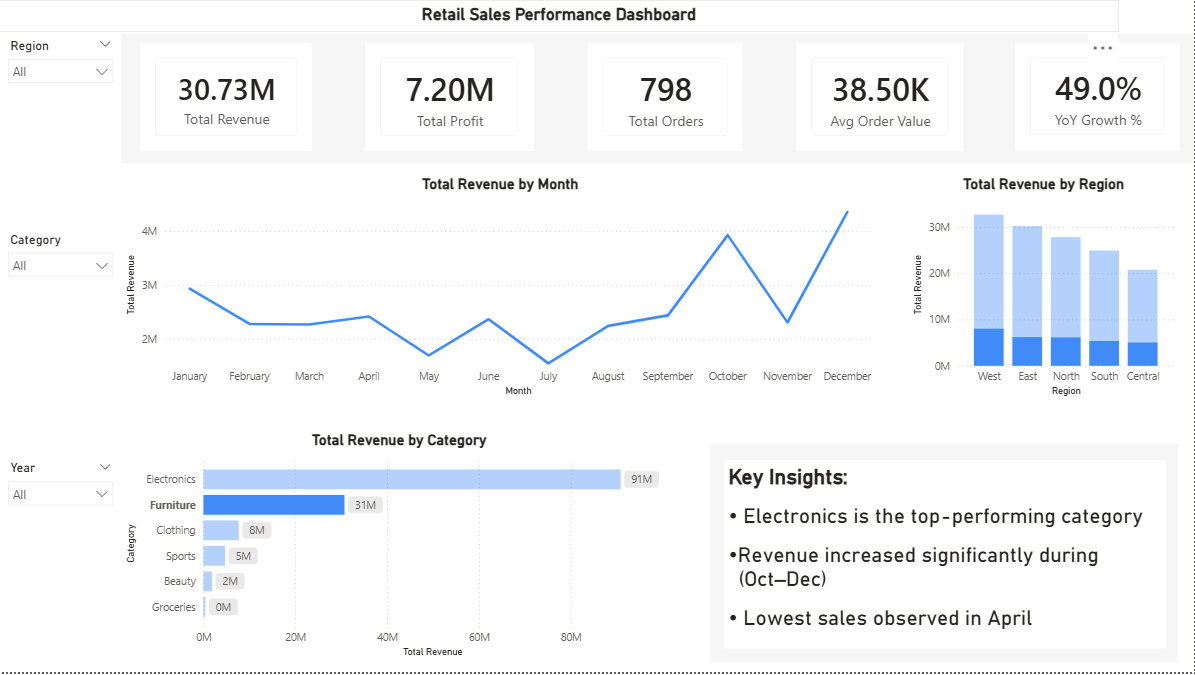

The page's visual inventory and layout, read from the dashboard file:
{"tool":"powerbi","page":{"name":"Page 1","canvas":[1366,768],"ordinal":0},"visuals":[{"type":"shape","box":[813.3,506.7,535,250],"z":0},{"type":"shape","box":[128,38,1238,148],"z":1000},{"type":"cardVisual","fields":{"Data":["Sales_Data.Total Revenue"]},"box":[162,48,196,124],"z":2000},{"type":"cardVisual","fields":{"Data":["Sales_Data.Total Profit"]},"box":[418.9,48.6,192.9,124.3],"z":3000},{"type":"cardVisual","fields":{"Data":["Sales_Data.Total Orders"]},"box":[672.7,48.6,177.1,124.3],"z":4000},{"type":"cardVisual","fields":{"Data":["Sales_Data.Avg Order Value"]},"box":[910.7,48,190,124],"z":5000},{"type":"slicer","fields":{"Values":["Sales_Data.Region"]},"box":[0,38.3,140,148.3],"z":6000},{"type":"slicer","fields":{"Values":["Sales_Data.Category"]},"box":[0,260,140,233.3],"z":7000},{"type":"slicer","fields":{"Values":["Sales_Data.Year"]},"box":[0,521.7,140,246.7],"z":8000},{"type":"lineChart","title":"Total Revenue by Month","fields":{"Y":["Sales_Data.Total Revenue"],"Category":["Sales_Data.Month.Variation.Date Hierarchy.Month"]},"box":[140,200,866,258],"z":9000},{"type":"clusteredBarChart","fields":{"Y":["Sales_Data.Total Revenue"],"Category":["Sales_Data.Category"]},"box":[140,493.3,635,263.3],"z":10000},{"type":"clusteredColumnChart","fields":{"Category":["Sales_Data.Region"],"Y":["Sales_Data.Total Revenue"]},"box":[1040,200,308,258],"z":11000},{"type":"cardVisual","fields":{"Data":["Sales_Data.YoY Growth %"]},"box":[1161.7,48.3,188.3,123.3],"z":12000},{"type":"textbox","box":[0,0,1280,37.1],"z":13000},{"type":"textbox","box":[828.3,525,505,215],"z":14000}]}

Visuals, with their boxes in screenshot pixels (x1, y1, x2, y2), scaled from the page's 1366x768 canvas onto the 1195x675 screenshot:
shape: Rect(711, 445, 1180, 665)
shape: Rect(112, 33, 1194, 163)
cardVisual - Sales_Data.Total Revenue: Rect(142, 42, 313, 151)
cardVisual - Sales_Data.Total Profit: Rect(366, 43, 535, 152)
cardVisual - Sales_Data.Total Orders: Rect(588, 43, 743, 152)
cardVisual - Sales_Data.Avg Order Value: Rect(797, 42, 963, 151)
slicer - Sales_Data.Region: Rect(0, 34, 122, 164)
slicer - Sales_Data.Category: Rect(0, 229, 122, 434)
slicer - Sales_Data.Year: Rect(0, 459, 122, 674)
"Total Revenue by Month" lineChart: Rect(122, 176, 880, 403)
clusteredBarChart - Sales_Data.Total Revenue x Sales_Data.Category: Rect(122, 434, 678, 665)
clusteredColumnChart - Sales_Data.Region x Sales_Data.Total Revenue: Rect(910, 176, 1179, 403)
cardVisual - Sales_Data.YoY Growth %: Rect(1016, 42, 1181, 151)
textbox: Rect(0, 0, 1120, 33)
textbox: Rect(725, 461, 1166, 650)
